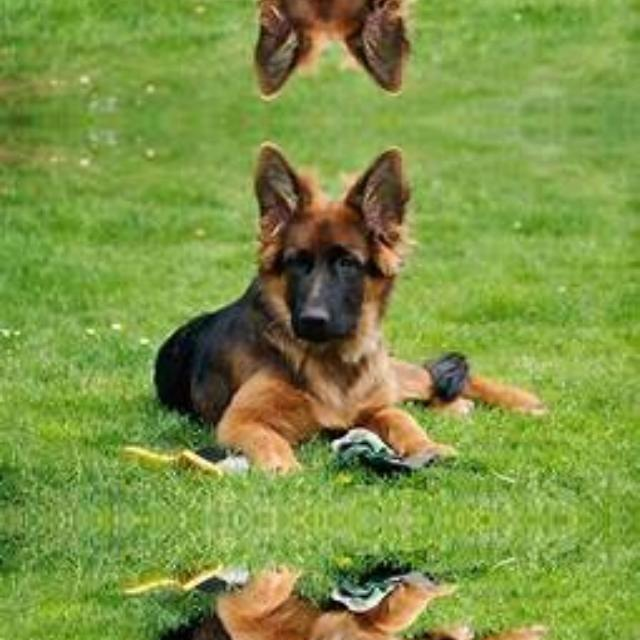dog: (126, 133, 558, 519), (126, 519, 558, 640), (126, 0, 558, 107)
